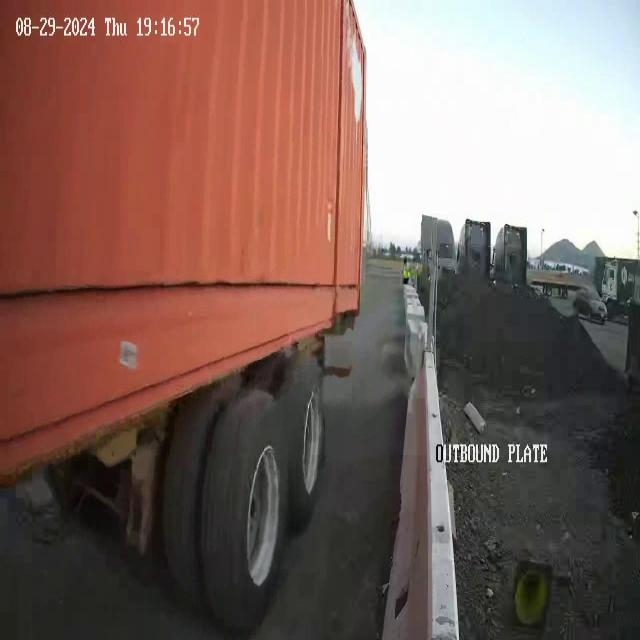TRUCK_CONTAINER: (1, 1, 368, 631)
